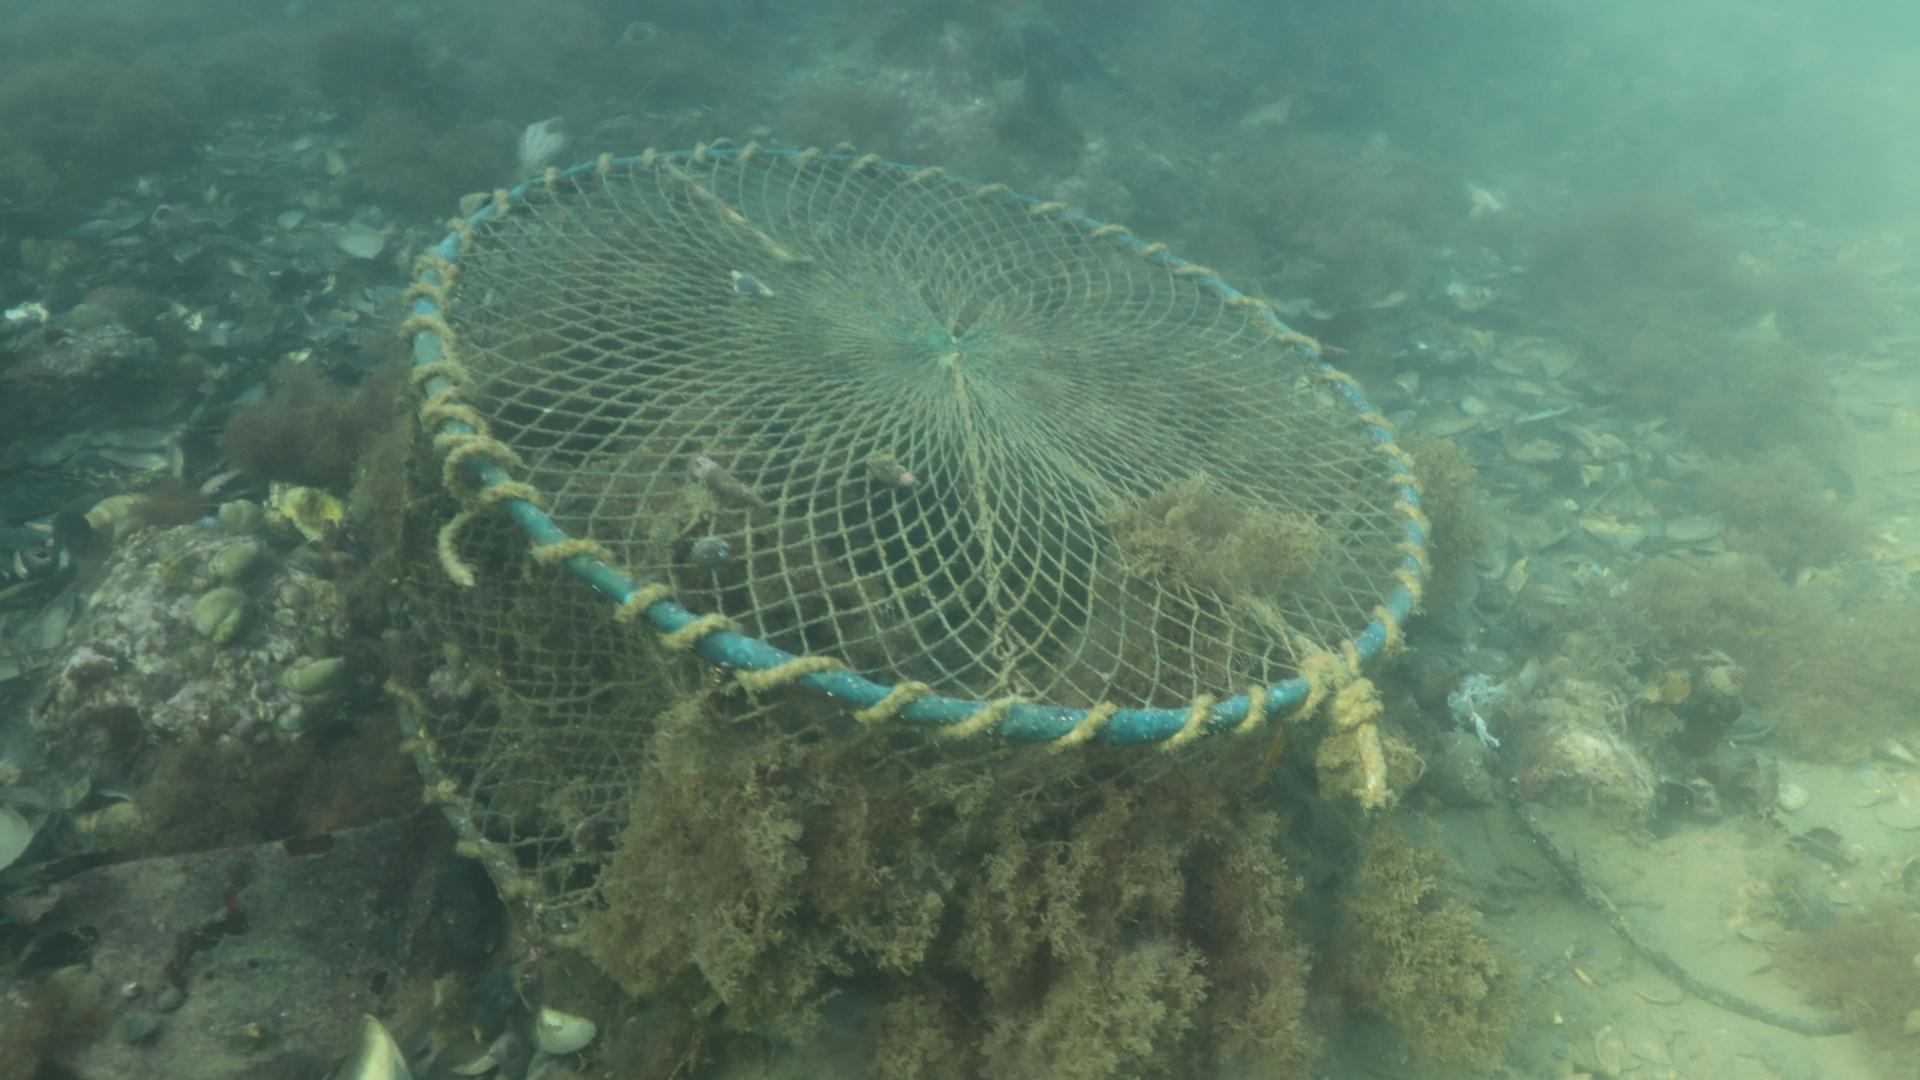circular fish trap: (404, 142, 1429, 942)
